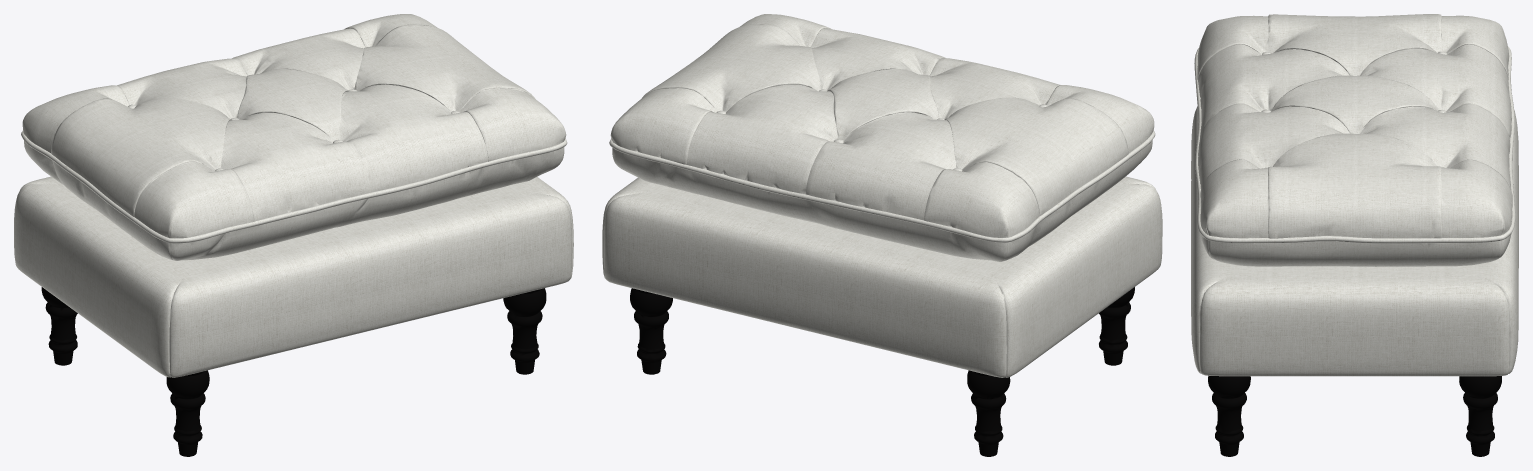
The model's file is THRE3819_v6_LOD2.obj.
The picture shows the model from 3 angles, left to right: view 1: azimuth 30°, elevation 25°; view 2: azimuth 150°, elevation 25°; view 3: azimuth 270°, elevation 25°; orthographic projection.
Parts seen in each view (by area): view 1: not_clear_obj_0_v6, not_clear_obj_2_v6, not_clear_obj_1_v6; view 2: not_clear_obj_0_v6, not_clear_obj_2_v6, not_clear_obj_1_v6; view 3: not_clear_obj_0_v6, not_clear_obj_2_v6, not_clear_obj_1_v6.
Part boxes in pixels (bbox=[...]): not_clear_obj_0_v6: bbox=[21, 14, 567, 260]; not_clear_obj_2_v6: bbox=[14, 176, 573, 377]; not_clear_obj_1_v6: bbox=[41, 287, 546, 456]; not_clear_obj_0_v6: bbox=[609, 14, 1155, 261]; not_clear_obj_2_v6: bbox=[602, 176, 1162, 377]; not_clear_obj_1_v6: bbox=[630, 287, 1134, 456]; not_clear_obj_0_v6: bbox=[1194, 14, 1515, 266]; not_clear_obj_2_v6: bbox=[1191, 106, 1518, 376]; not_clear_obj_1_v6: bbox=[1208, 375, 1501, 456].
Size of the model in its own units: 71.11 by 45.59 by 48.26.
3 materials, 2 textured.
